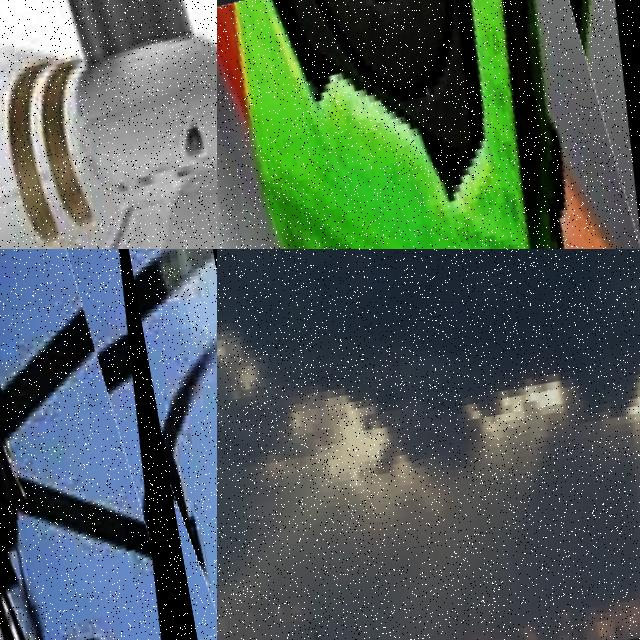0: (0, 249, 205, 640)
drone: (217, 0, 640, 249), (0, 0, 217, 249)
